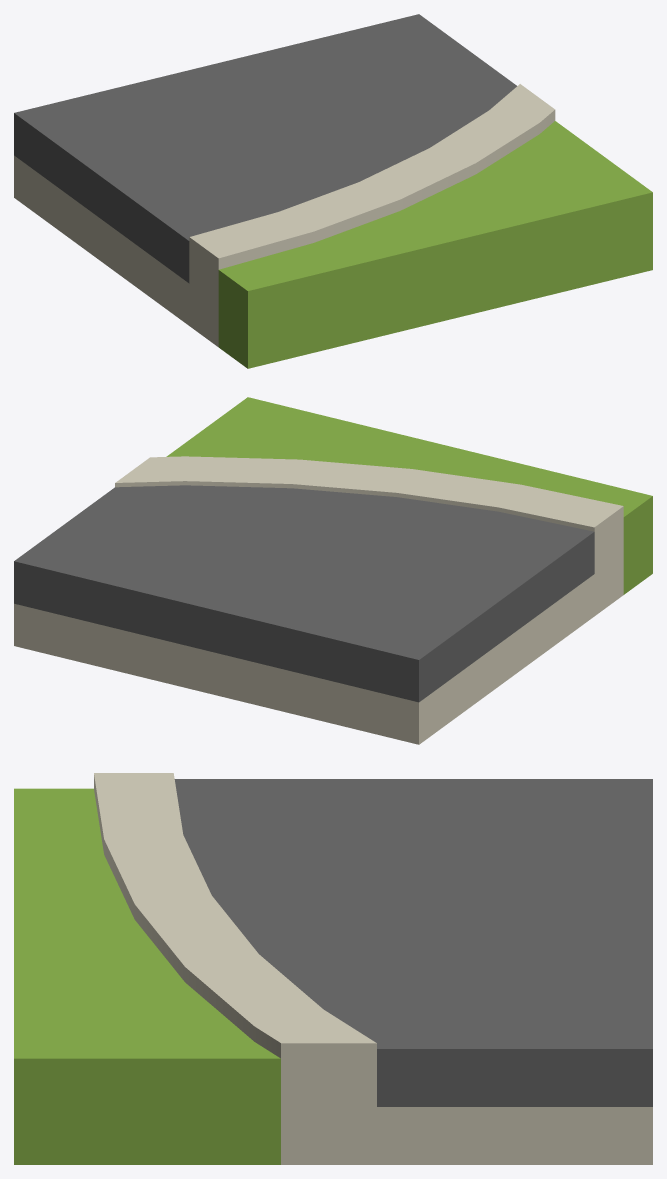
The model's file is roadTile_053.fbx.
3 views of the same model, one above another, from view 1: azimuth 30°, elevation 25°; view 2: azimuth 150°, elevation 25°; view 3: azimuth 270°, elevation 25° (orthographic). The views are drawn at different scales.
Parts seen in each view (by area): view 1: roadTile_053; view 2: roadTile_053; view 3: roadTile_053.
Boxes of the visible parts, <box> form: roadTile_053: <box>14,14,652,368</box>; roadTile_053: <box>14,397,652,744</box>; roadTile_053: <box>14,773,652,1164</box>.
Size of the model in its own units: 118 by 24.8 by 118.
